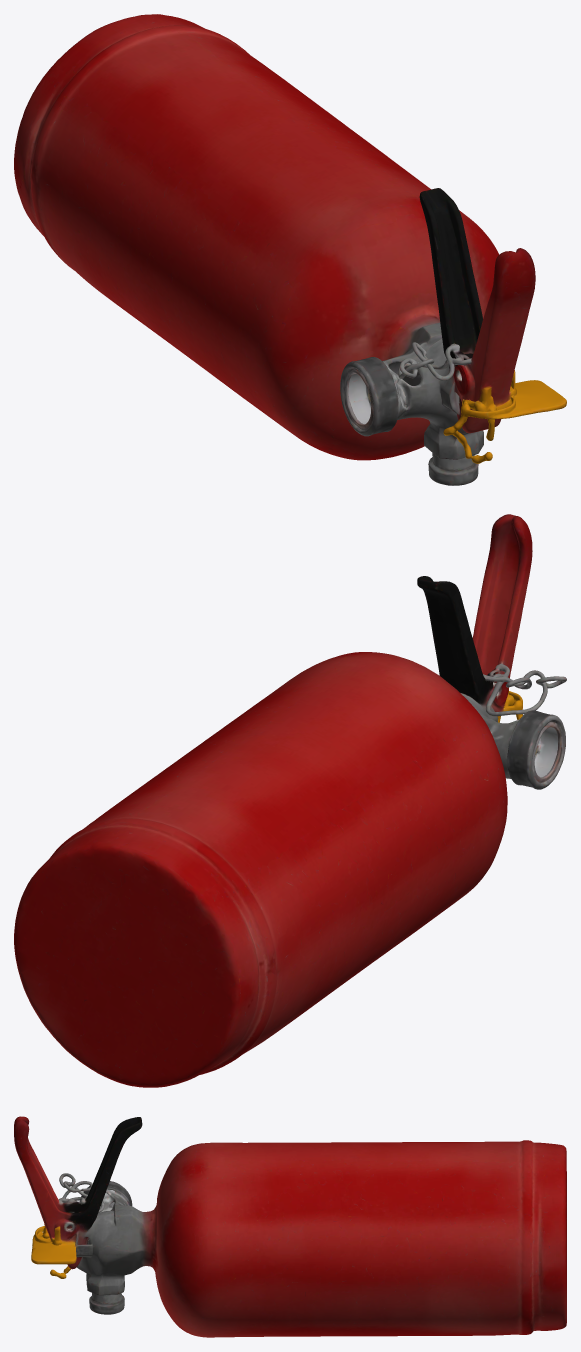
Rendered from original.glb.
The picture shows the model from 3 angles, top to bottom: view 1: azimuth 30°, elevation 25°; view 2: azimuth 150°, elevation 25°; view 3: azimuth 270°, elevation 25°; orthographic projection. The views are drawn at different scales.
Visible parts, largest first — view 1: world; view 2: world; view 3: world.
Boxes of the visible parts, x1=… form: world: x1=14, y1=14, x2=566, y2=485; world: x1=14, y1=514, x2=566, y2=1087; world: x1=14, y1=1116, x2=566, y2=1337.
Size of the model in its own units: 0.3567 by 0.4192 by 1.
Materials: 1 (1 with a texture image).
